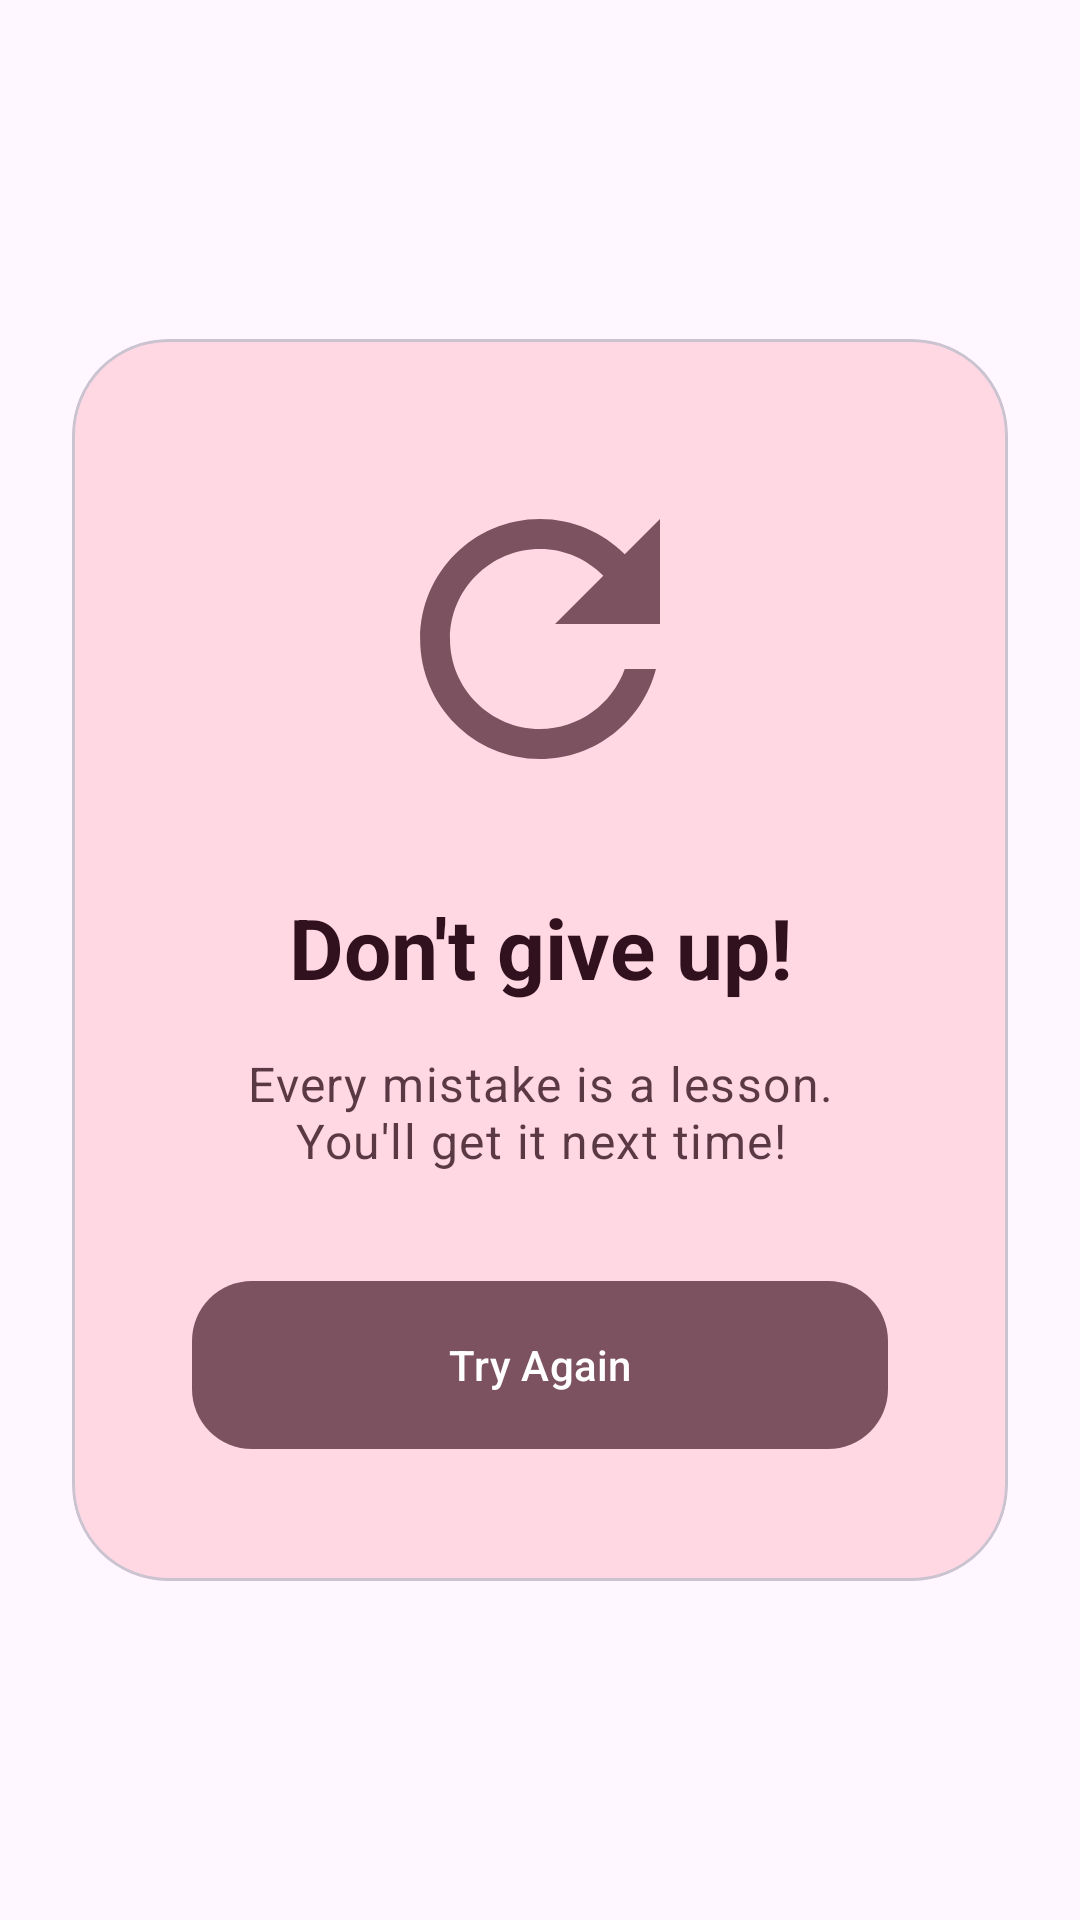

Screen size 1080px x 1920px. Icon name, then its box in pixels as (x1, y1, x2, y2):
refresh: (420, 519, 660, 759)
